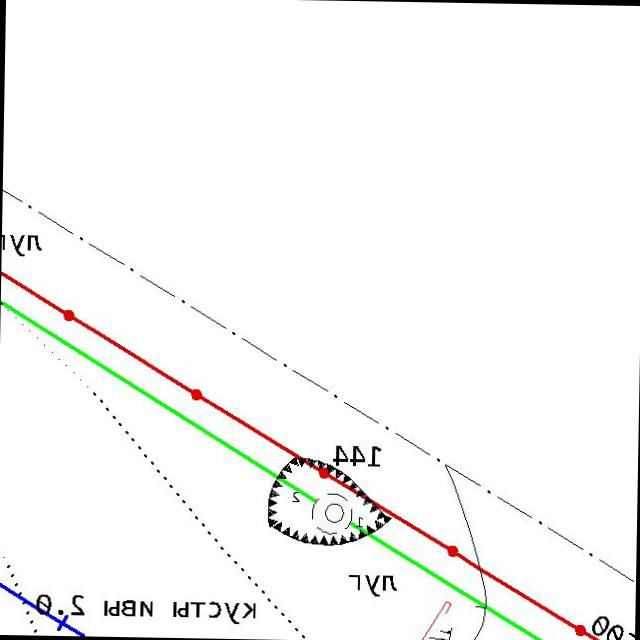well: (324, 501, 346, 524)
